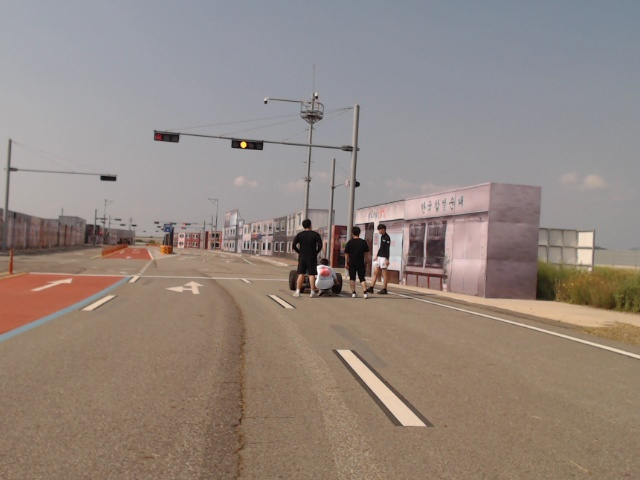orange_4: (230, 137, 264, 150)
